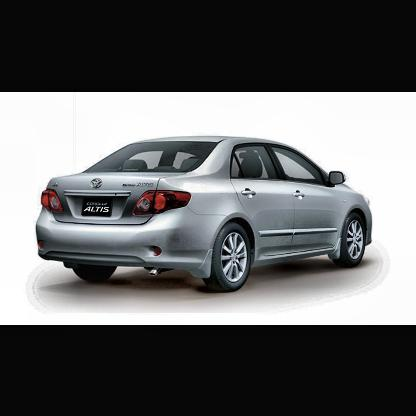Toyota Corolla Sedan 2012: (36, 133, 375, 292)
